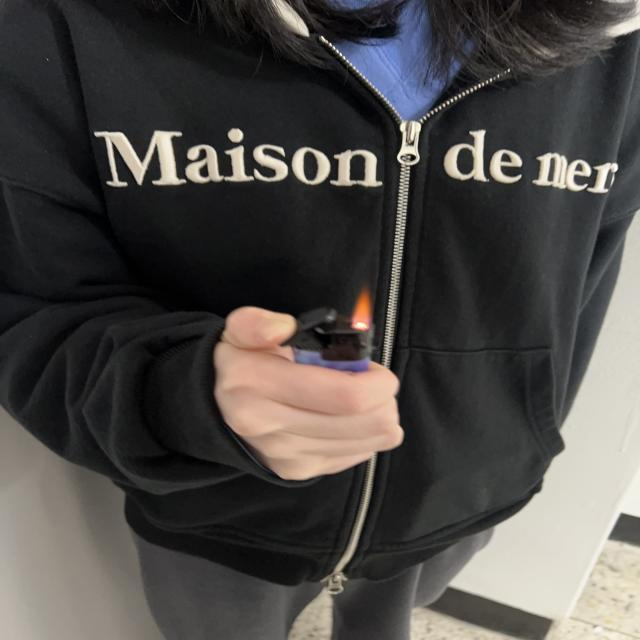fire: (348, 286, 371, 326)
